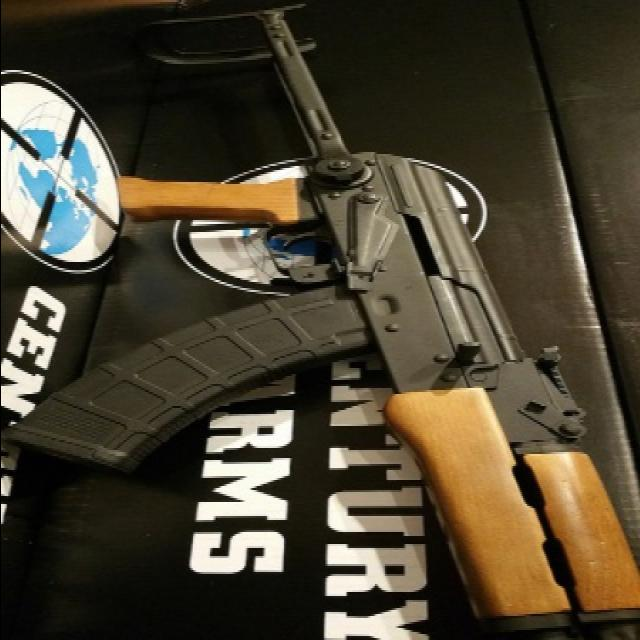rifle: (4, 19, 640, 633)
